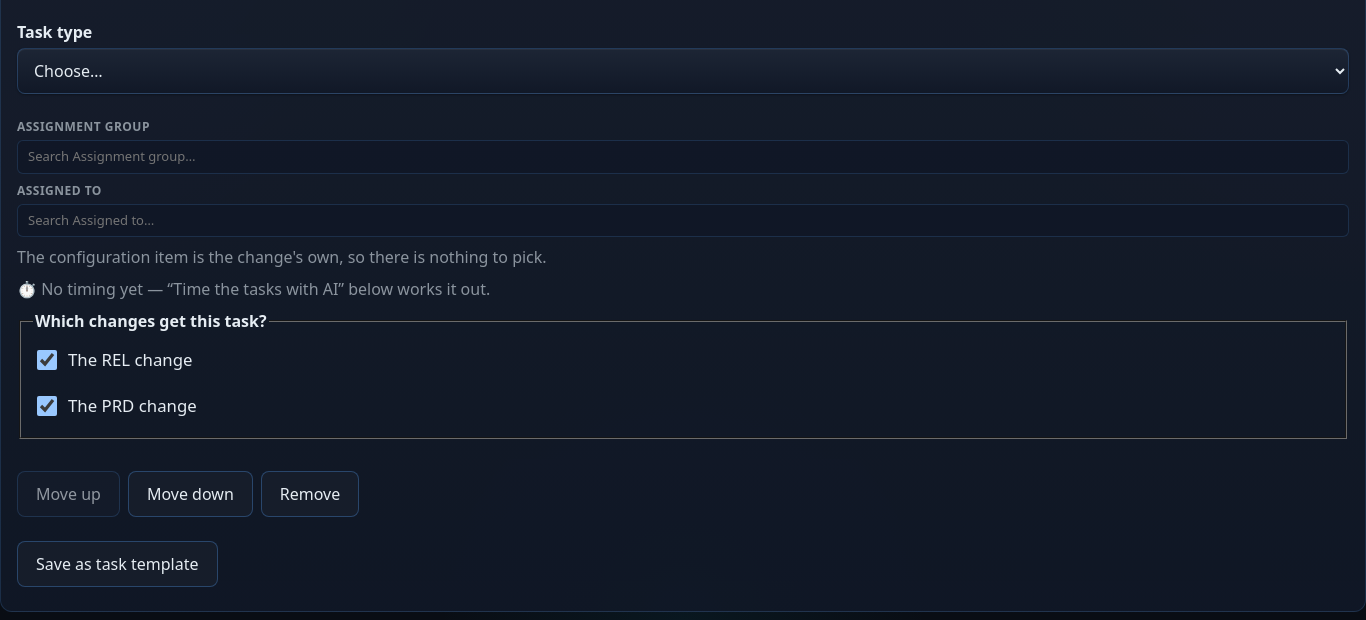
TaskCard › saves the card as a task template under the name given, and says so
(page scrolled)
Click the button "Save as task template". click: (117, 564)
box: [17,541,218,587]
(page scrolled)
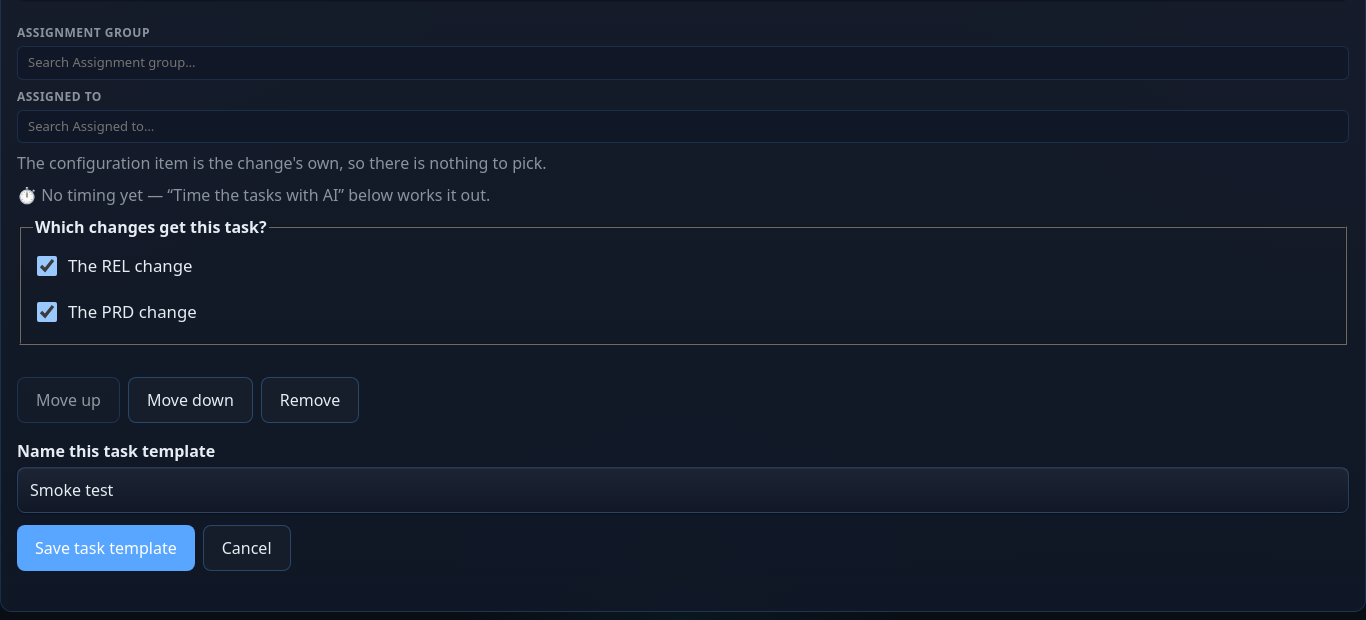
expect the field labelled "Name this task template" holds "Smoke test": met, box [17,467,1349,513]
Click the button "Save task template". click: (106, 548)
box: [17,525,195,571]
(page scrolled)
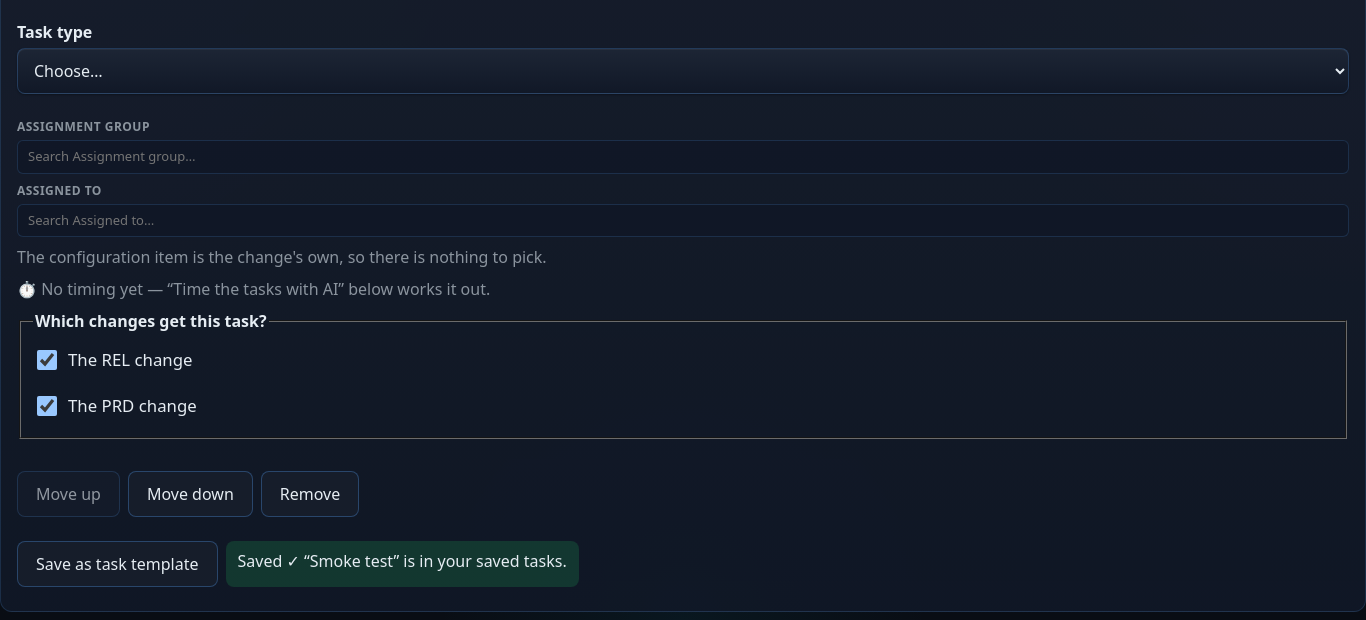
expect the message shows "Saved ✓": met, box [238,550,567,572]
